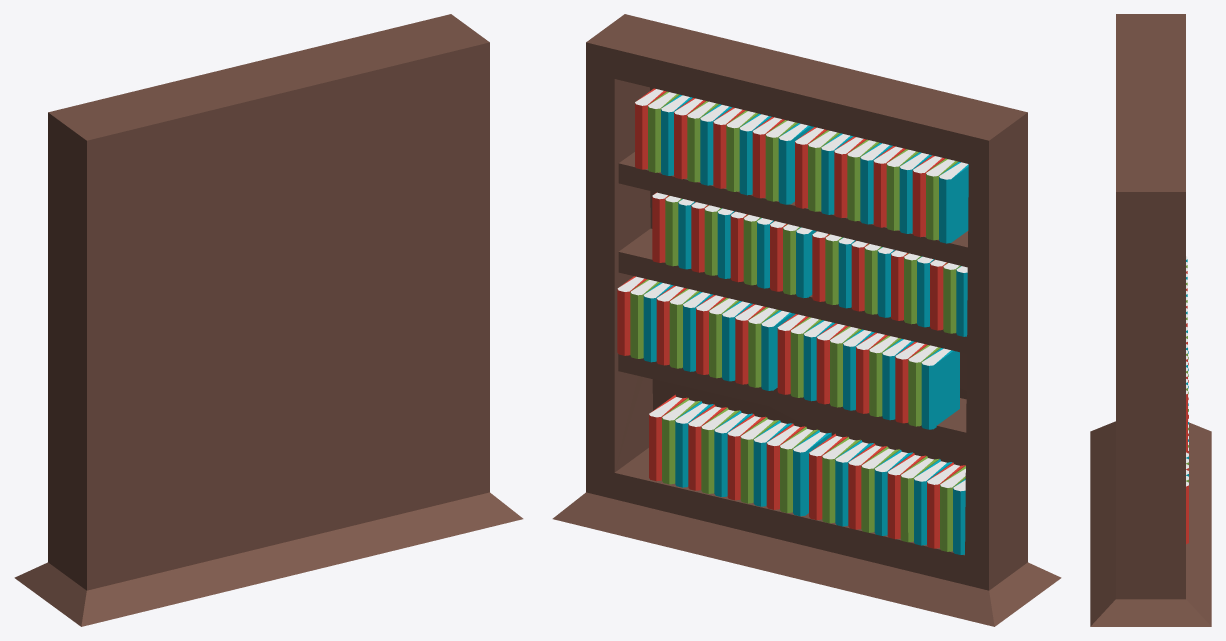
Rendered from BookshelfWithBooks.fbx.
The picture shows the model from 3 angles, left to right: view 1: azimuth 30°, elevation 25°; view 2: azimuth 150°, elevation 25°; view 3: azimuth 270°, elevation 25°; orthographic projection. The views are drawn at different scales.
Parts seen in each view (by area): view 1: mesh_1295511530; view 2: mesh_1295511530, mesh_568524671, mesh_886227347, mesh_1660160457, mesh_861598260, mesh_362314774, mesh_584662381, mesh_488812185, mesh_2010286517, mesh_7480704, mesh_786323976, mesh_751422384 (+85 smaller); view 3: mesh_1295511530.
Boxes of the visible parts, box(x1,y1,x2,y2) form: mesh_1295511530: box(14, 14, 523, 626); mesh_1295511530: box(552, 14, 1061, 626); mesh_568524671: box(921, 348, 959, 429); mesh_886227347: box(939, 162, 968, 243); mesh_1660160457: box(793, 430, 831, 516); mesh_861598260: box(778, 123, 813, 204); mesh_362314774: box(761, 310, 795, 390); mesh_584662381: box(753, 420, 792, 506); mesh_488812185: box(848, 443, 886, 529); mesh_2010286517: box(740, 417, 779, 503); mesh_7480704: box(688, 404, 726, 490); mesh_786323976: box(675, 401, 713, 487); mesh_751422384: box(766, 423, 805, 509); mesh_1295511530: box(1090, 14, 1211, 626).
Size of the model in its own units: 169 by 172 by 44.44.
